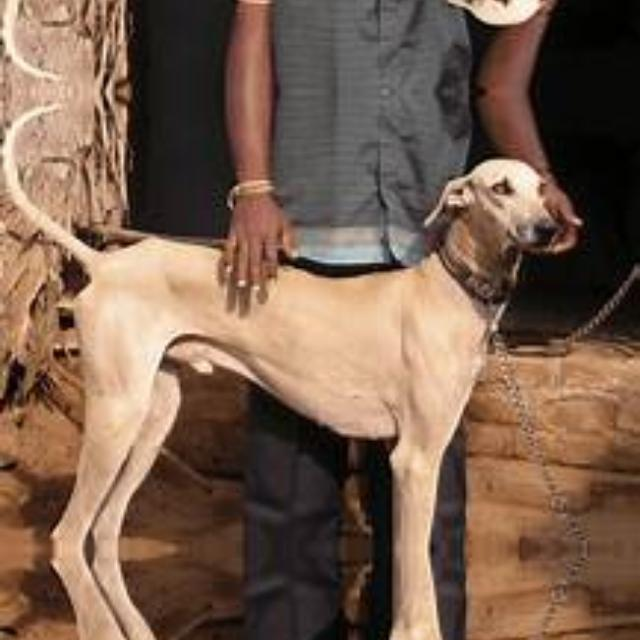dog: (30, 146, 592, 548), (30, 548, 592, 640), (30, 0, 592, 36)
